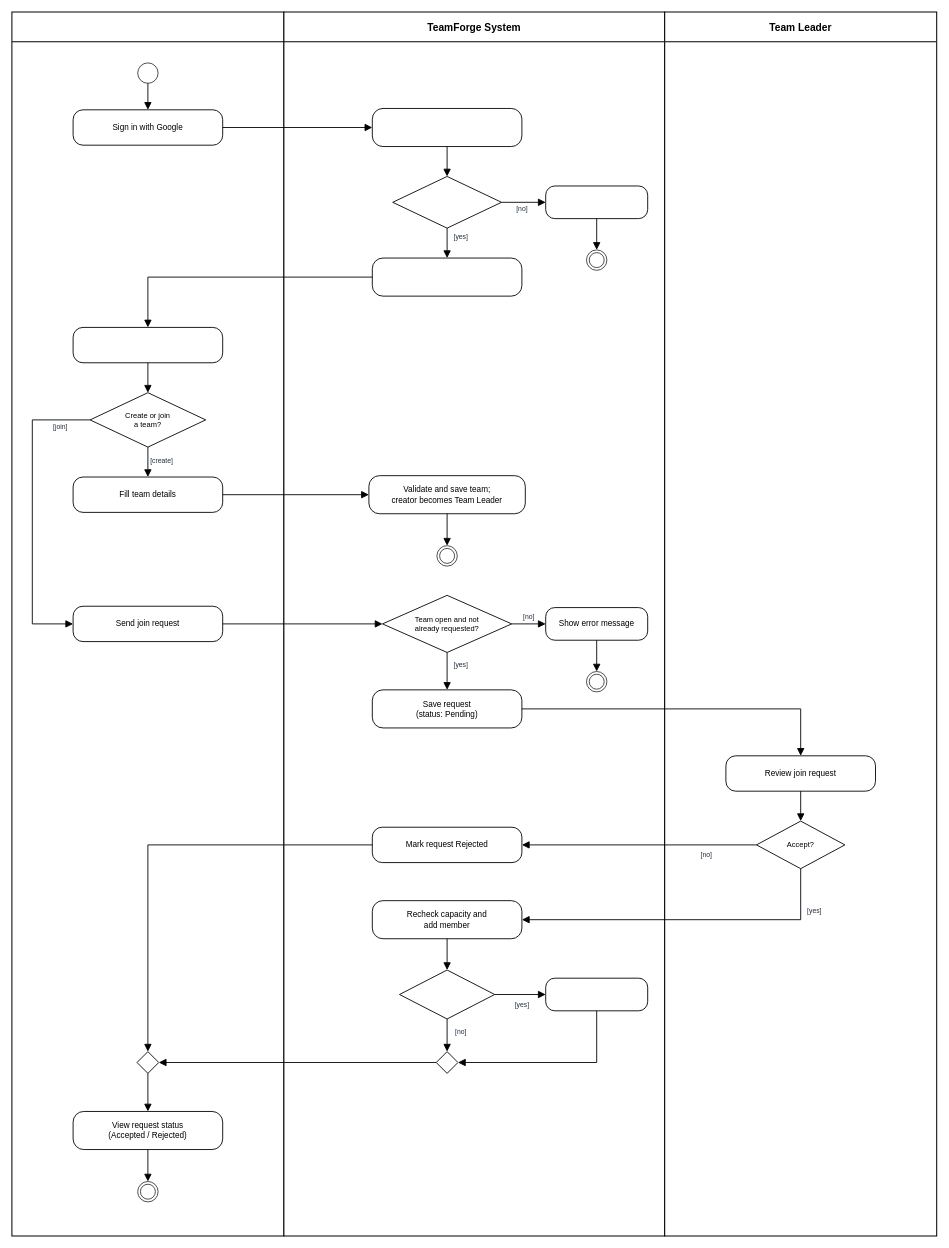
Some shapes in this 949 by 1248 pixel diagram are drawn without their labels. Here are the shapes that lost their labels. From the top down, the box of each, then its label:
(372, 108, 522, 147): Verify Google login and Thapar e-mail
(392, 176, 502, 228): Valid Thapar student?
(545, 185, 648, 219): Show login error
(372, 257, 522, 296): Start session and load dashboard
(72, 327, 223, 363): Browse / search teams
(11, 11, 284, 1236): Student
(399, 969, 495, 1019): Team now full?
(545, 977, 648, 1011): Mark team Full
